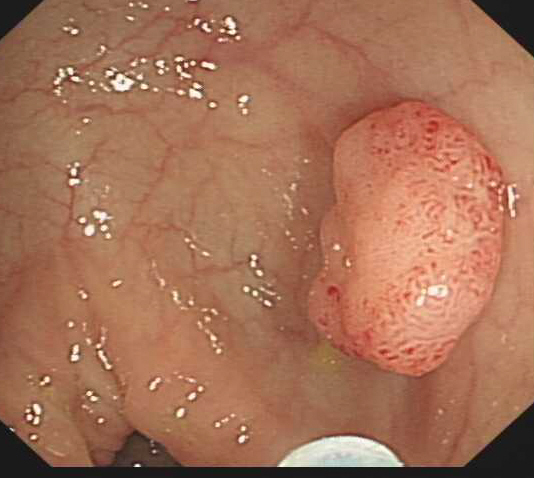adenoma: (306, 97, 508, 380)
